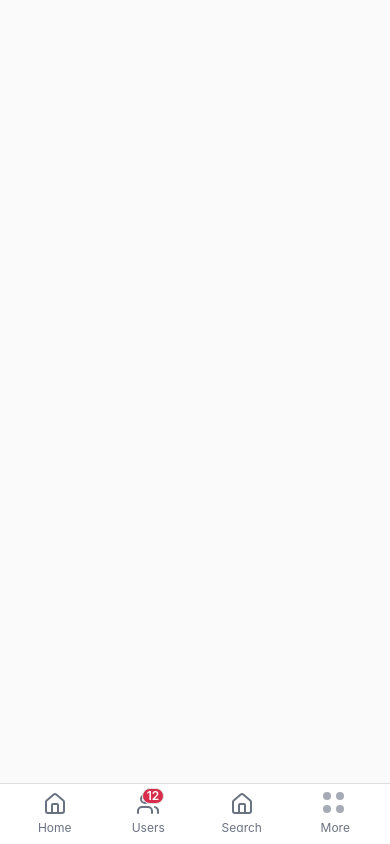
Test: BottomNavigation › Overflow Handling › closes overflow menu when overlay is clicked
Click the button with aria-label "More options". click: click(335, 814)
box: [288,784,382,843]
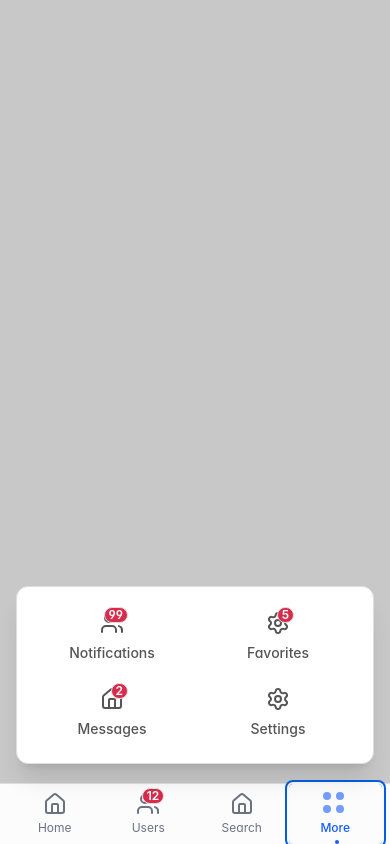
expect the text "Favorites" is shown: met, box [247,643,309,663]
Click the element with class "inset-0". click: click(195, 422)
box: [0,0,389,843]
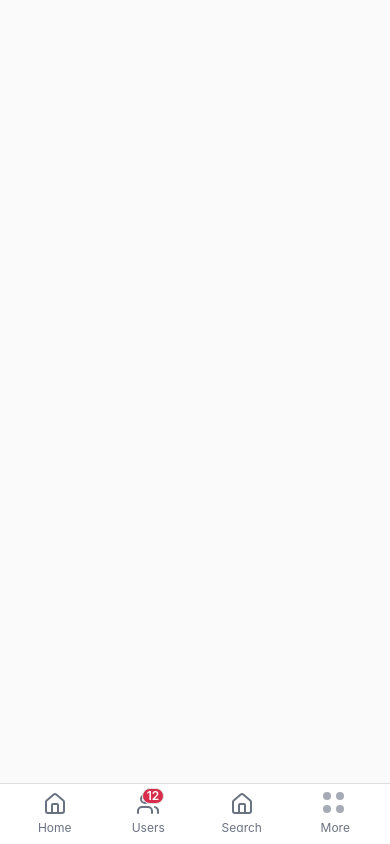
expect the button "Favorites" is gone: met
